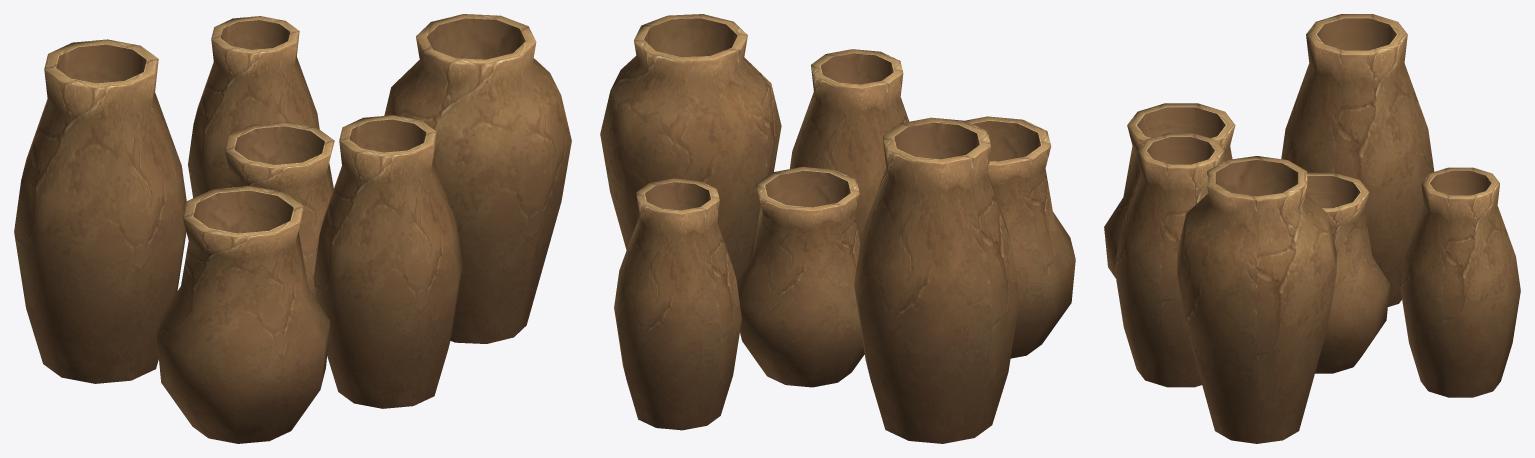
The model's file is Jugs_Preset_03.FBX.
3 views of the same model, side by side, from view 1: azimuth 30°, elevation 25°; view 2: azimuth 150°, elevation 25°; view 3: azimuth 270°, elevation 25° (orthographic). The views are drawn at different scales.
Visible parts, largest first — view 1: Jugs_Preset_03; view 2: Jugs_Preset_03; view 3: Jugs_Preset_03.
Boxes of the visible parts, x1,y1,x2,y2 form: Jugs_Preset_03: [14, 14, 571, 443]; Jugs_Preset_03: [600, 14, 1075, 443]; Jugs_Preset_03: [1104, 14, 1520, 443].
Bounding box in the file's own units: 144 × 126 × 85.55.
